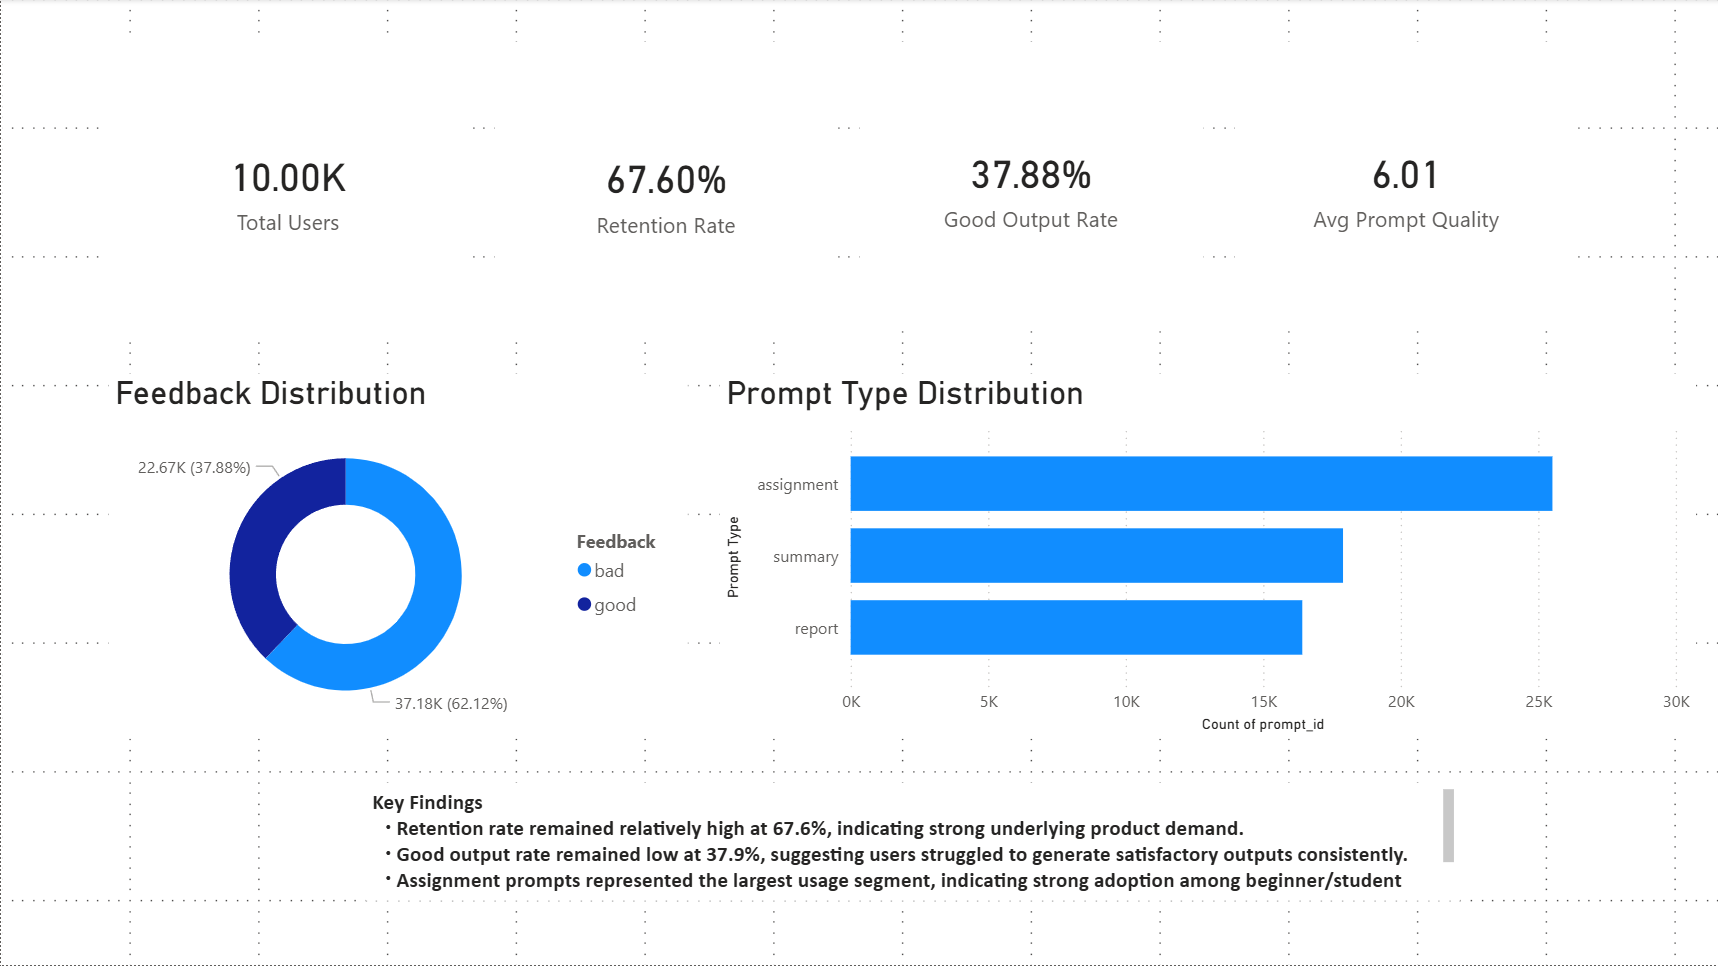

The page's visual inventory and layout, read from the dashboard file:
{"tool":"powerbi","page":{"name":"Executive Overview","canvas":[1280,720],"ordinal":0},"visuals":[{"type":"card","fields":{"Values":["Count(users.user_id)"]},"box":[77.8,29.5,272,224],"z":0},{"type":"card","fields":{"Values":["experiment_data.Retention Rate"]},"box":[368,32,256,224],"z":1000},{"type":"card","fields":{"Values":["experiment_data.Good Output Rate"]},"box":[640,32,256,216],"z":2000},{"type":"card","fields":{"Values":["experiment_data.Avg Prompt Quality"]},"box":[920,32,256,216],"z":3000},{"type":"donutChart","title":"Feedback Distribution","fields":{"Category":["experiment_data.feedback"],"Y":["CountNonNull(experiment_data.feedback)"]},"box":[80,280,432,272],"z":4000},{"type":"barChart","title":"Prompt Type Distribution","fields":{"Category":["experiment_data.prompt_type"],"Y":["CountNonNull(experiment_data.prompt_id)"]},"box":[536,280,728,272],"z":5000},{"type":"textbox","box":[272,584,816,88],"z":5001}]}

Visuals, with their boxes in screenshot pixels (x1, y1, x2, y2), scaled from the page's 1280x720 canvas onto the 1718x966 screenshot:
card - Count(users.user_id): select_region(104, 40, 469, 340)
card - experiment_data.Retention Rate: select_region(494, 43, 838, 343)
card - experiment_data.Good Output Rate: select_region(859, 43, 1203, 333)
card - experiment_data.Avg Prompt Quality: select_region(1235, 43, 1578, 333)
"Feedback Distribution" donutChart: select_region(107, 376, 687, 741)
"Prompt Type Distribution" barChart: select_region(719, 376, 1697, 741)
textbox: select_region(365, 784, 1460, 902)
